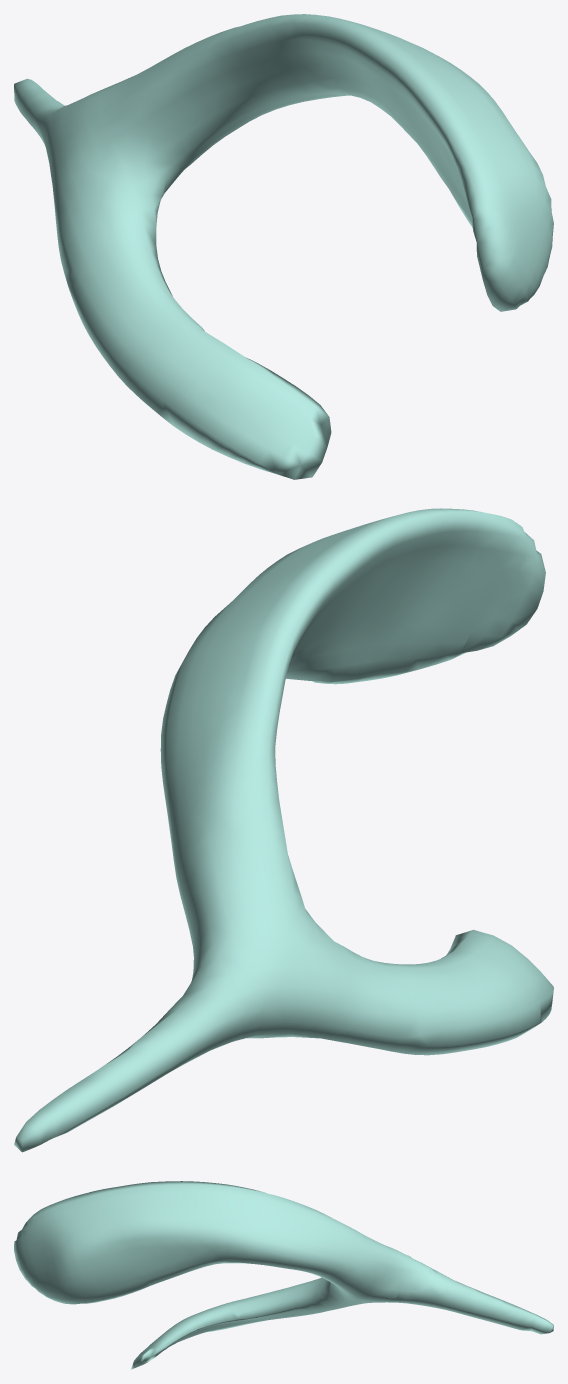
Rendered from Ventricles_WhiteMatter_Lateral ventricle.r.glb.
The picture shows the model from 3 angles, top to bottom: view 1: azimuth 30°, elevation 25°; view 2: azimuth 150°, elevation 25°; view 3: azimuth 270°, elevation 25°; orthographic projection. The views are drawn at different scales.
Parts seen in each view (by area): view 1: Lateral ventricle.r; view 2: Lateral ventricle.r; view 3: Lateral ventricle.r.
Part boxes in pixels (x1,y1,x2,y2): Lateral ventricle.r: (14,14,553,479); Lateral ventricle.r: (14,508,553,1152); Lateral ventricle.r: (14,1181,553,1369).
Bounding box in the file's own units: 0.0374 × 0.0472 × 0.1059.
